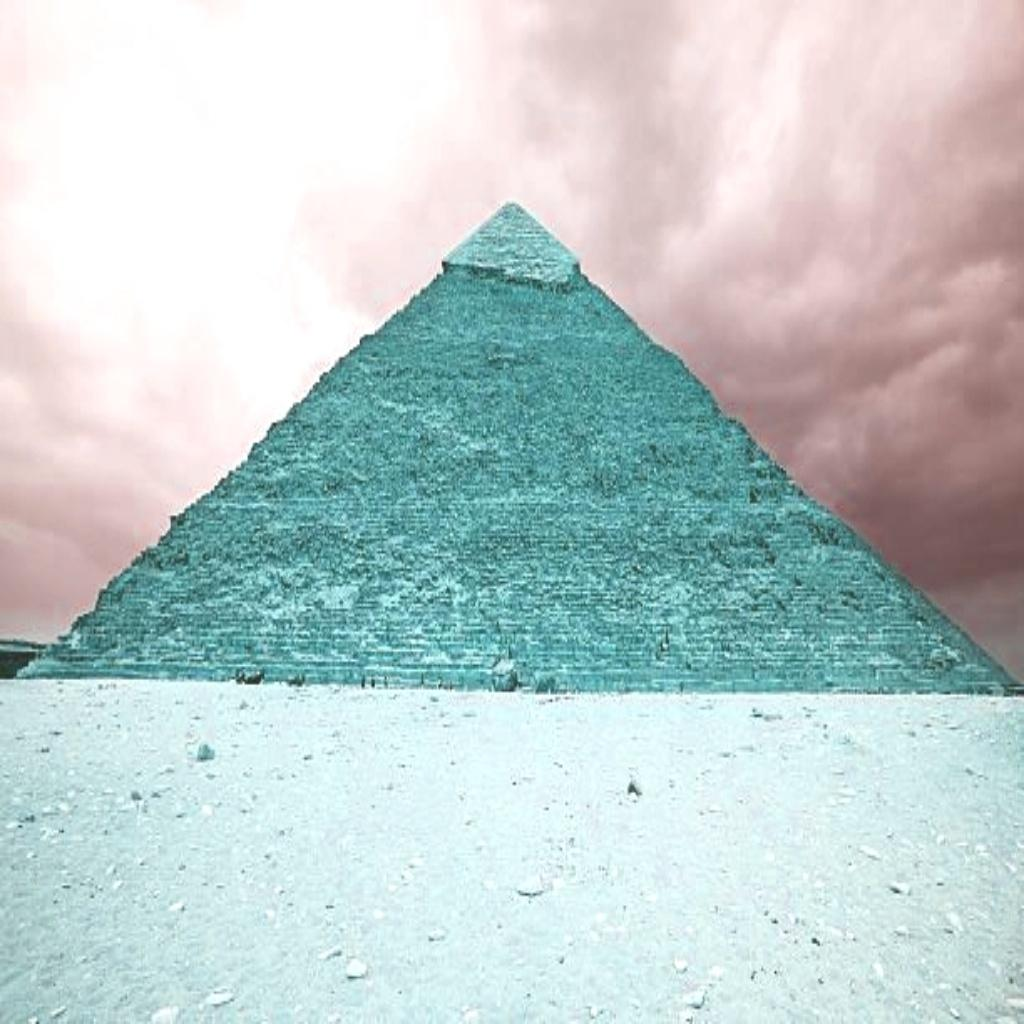Great Pyramids of Giza: (18, 194, 1016, 694)
